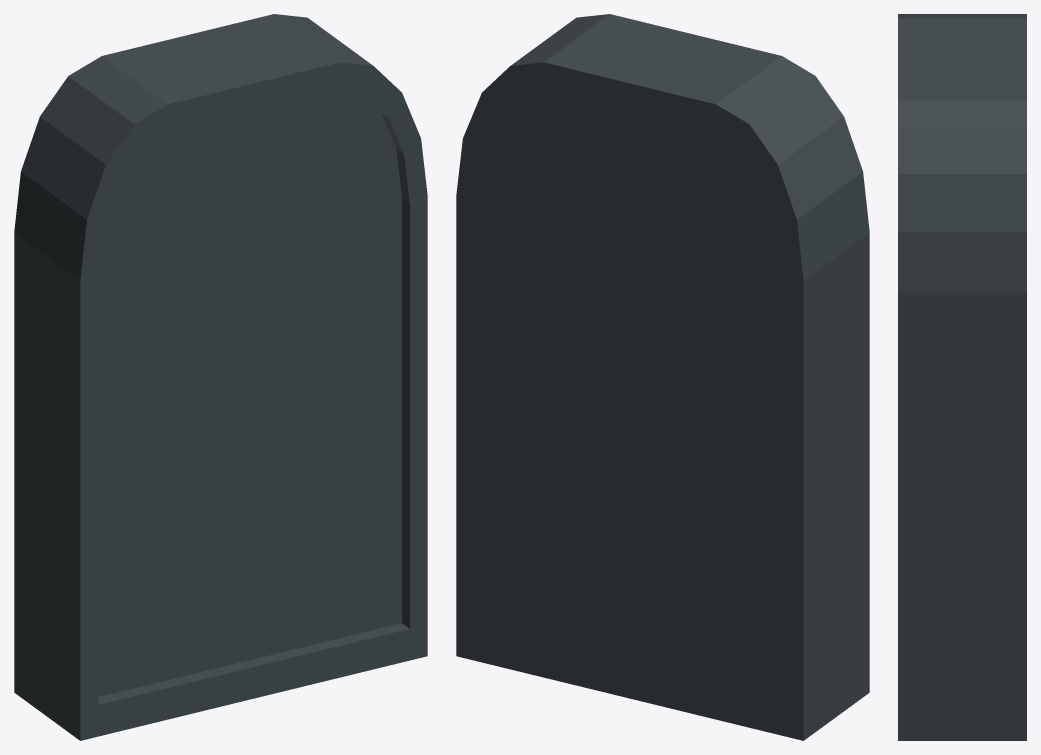
File: tombstone_2.fbx
3 renders of one model, left to right at view 1: azimuth 30°, elevation 25°; view 2: azimuth 150°, elevation 25°; view 3: azimuth 270°, elevation 25°, orthographic. The views are drawn at different scales.
Visible parts, largest first — view 1: tombstone1; view 2: tombstone1; view 3: tombstone1.
Part boxes in pixels (x1,y1,x2,y2): tombstone1: [14, 14, 427, 740]; tombstone1: [456, 14, 869, 740]; tombstone1: [898, 14, 1026, 740].
Size of the model in its own units: 0.4297 by 0.7271 by 0.1416.
